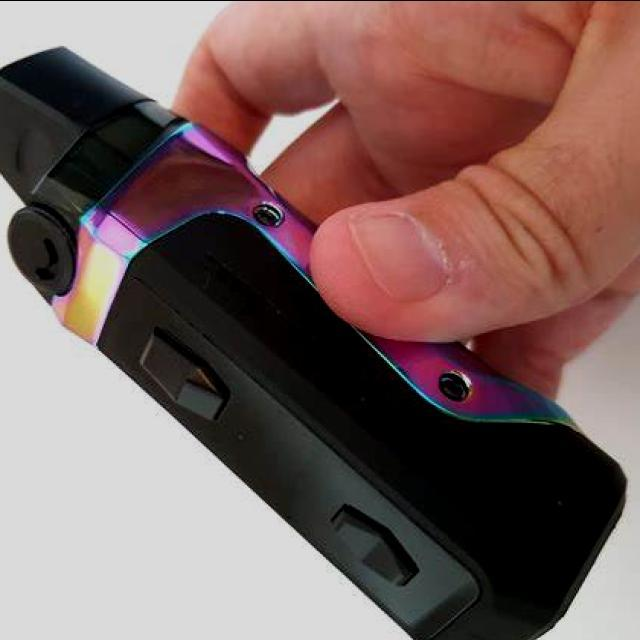Hazard: (0, 39, 629, 640)
